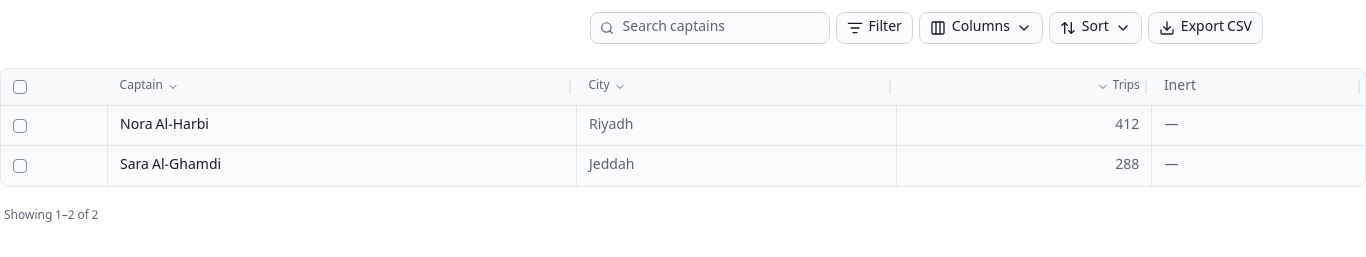
the header cell — one control, or none › labels the direction pair from the column dataType, never with date words (AC-88)
The width and height of the screenshot is (1366, 257).
What coordinates should you click on to do the following:
click the button with aria-label "Column options for Trips"
I would click on:
 (1024, 87)
Its box is [896,69,1152,105].
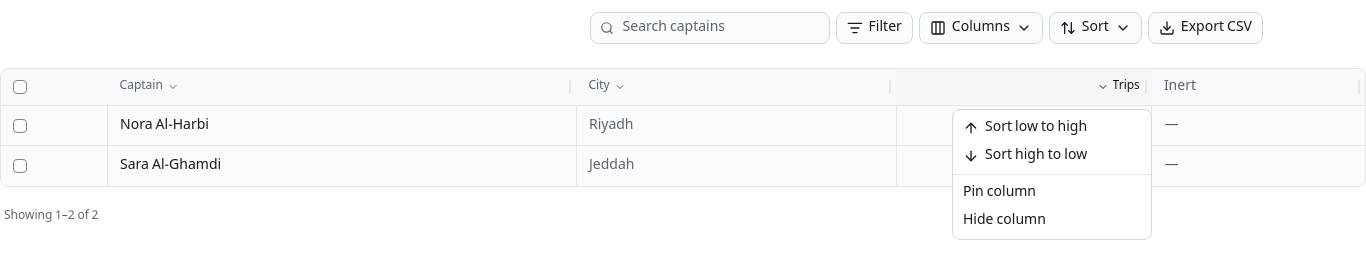
Check: the menu item "Sort low to high" is shown, box [963,116,1087,140]
